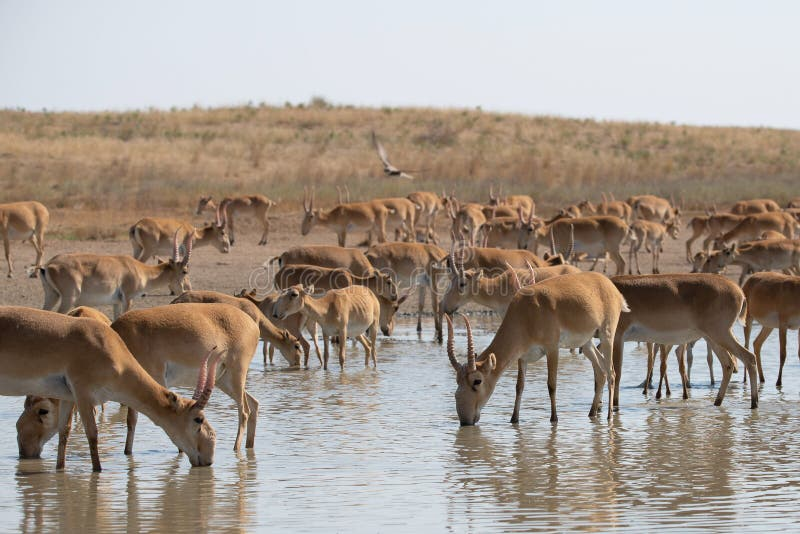saiga: (447, 268, 619, 432)
